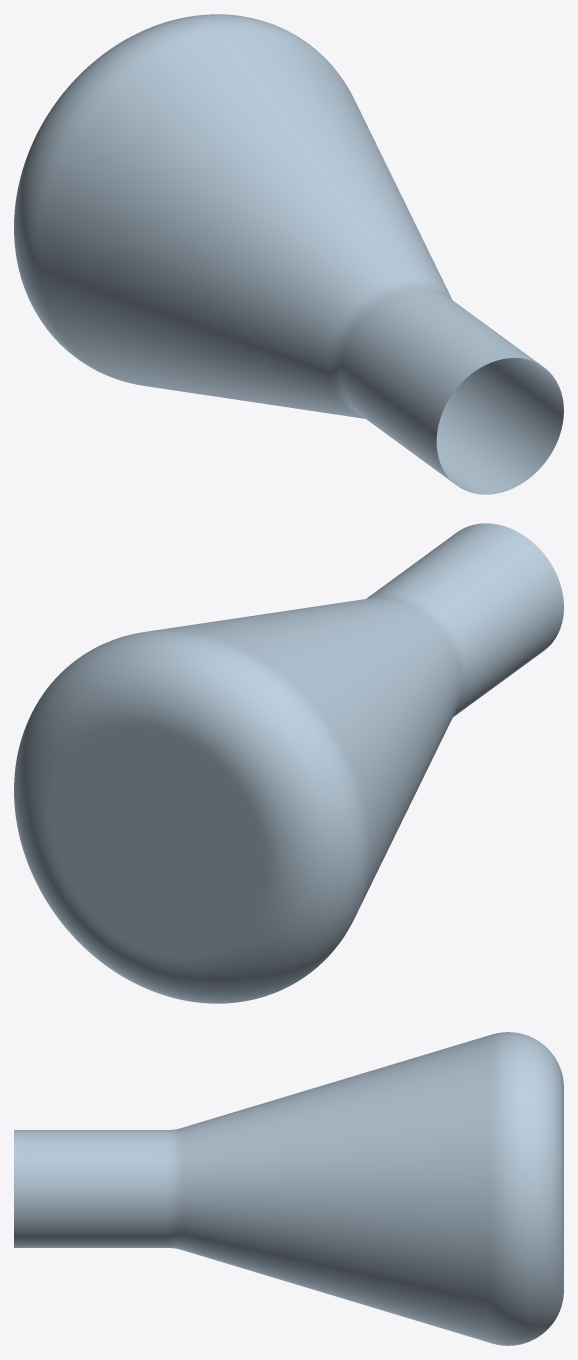
The model's file is glass-plain.glb.
The picture shows the model from 3 angles, top to bottom: view 1: azimuth 30°, elevation 25°; view 2: azimuth 150°, elevation 25°; view 3: azimuth 270°, elevation 25°; orthographic projection. The views are drawn at different scales.
Parts seen in each view (by area): view 1: glass-plain; view 2: glass-plain; view 3: glass-plain.
Boxes of the visible parts, bbox=[...] form: glass-plain: bbox=[14, 14, 563, 494]; glass-plain: bbox=[14, 523, 563, 1003]; glass-plain: bbox=[14, 1032, 563, 1345].
Size of the model in its own units: 0.0816 by 0.0816 by 0.143.
